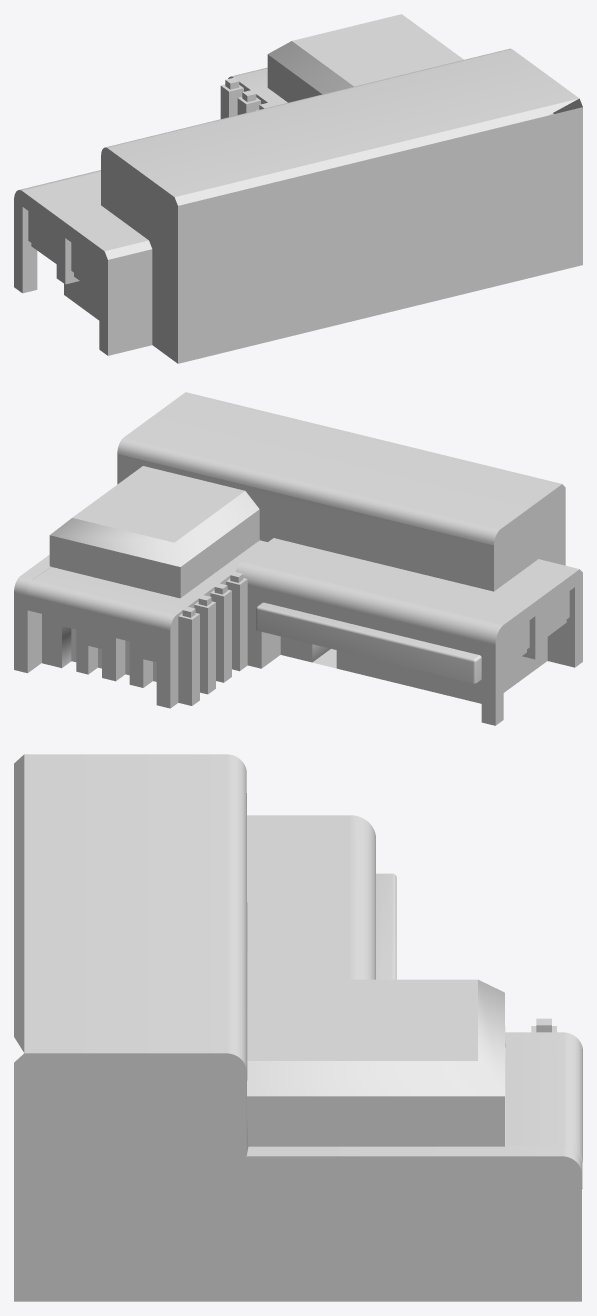
The model's file is FachadaConsultorio crashea.fbx.
The picture shows the model from 3 angles, top to bottom: view 1: azimuth 30°, elevation 25°; view 2: azimuth 150°, elevation 25°; view 3: azimuth 270°, elevation 25°; orthographic projection. The views are drawn at different scales.
Visible parts, largest first — view 1: hospital.3.0_Cuerpo 03, hospital.3.0_Cuerpo 03.006; view 2: hospital.3.0_Cuerpo 03, hospital.3.0_Cuerpo 03.006, hospital.3.0_Cuerpo 03.002, hospital.3.0_Cuerpo 03.004, hospital.3.0_Cuerpo 03.001, Cubo.002; view 3: hospital.3.0_Cuerpo 03, hospital.3.0_Cuerpo 03.001, hospital.3.0_Cuerpo 03.006.
Boxes of the visible parts, left/top/right/bottom form: hospital.3.0_Cuerpo 03: left=14, top=48, right=582, bottom=363; hospital.3.0_Cuerpo 03.006: left=267, top=14, right=463, bottom=102; hospital.3.0_Cuerpo 03: left=27, top=392, right=582, bottom=725; hospital.3.0_Cuerpo 03.006: left=49, top=466, right=259, bottom=598; hospital.3.0_Cuerpo 03.002: left=42, top=614, right=156, bottom=687; hospital.3.0_Cuerpo 03.004: left=280, top=636, right=481, bottom=703; hospital.3.0_Cuerpo 03.001: left=14, top=555, right=53, bottom=673; Cubo.002: left=56, top=543, right=255, bottom=681; hospital.3.0_Cuerpo 03: left=14, top=754, right=582, bottom=1301; hospital.3.0_Cuerpo 03.001: left=246, top=1145, right=581, bottom=1301; hospital.3.0_Cuerpo 03.006: left=247, top=979, right=504, bottom=1146.
Bounding box in the file's own units: 10016 × 3497 × 7253.
10 materials, 2 textured.
